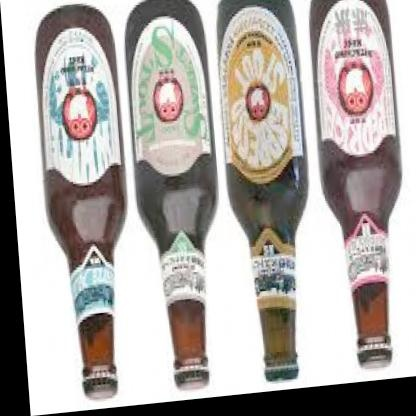trash: (36, 5, 124, 398), (126, 0, 215, 387), (218, 0, 306, 380), (311, 0, 400, 363)
